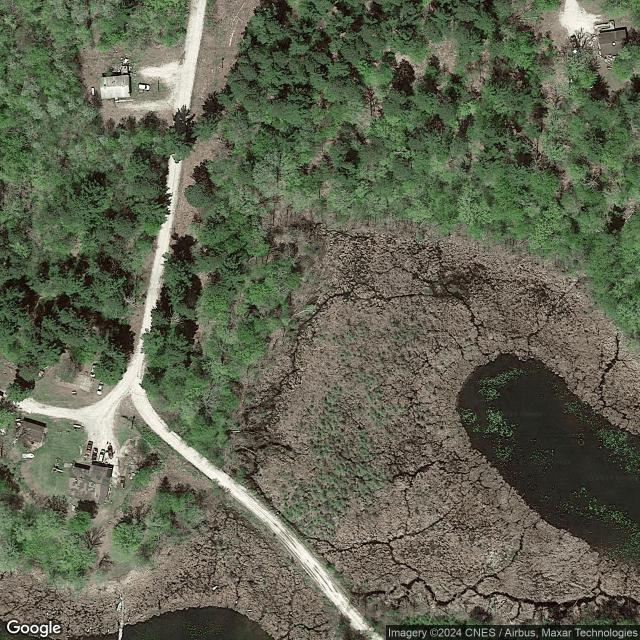Propane: (90, 86, 96, 96), (72, 423, 82, 429)
